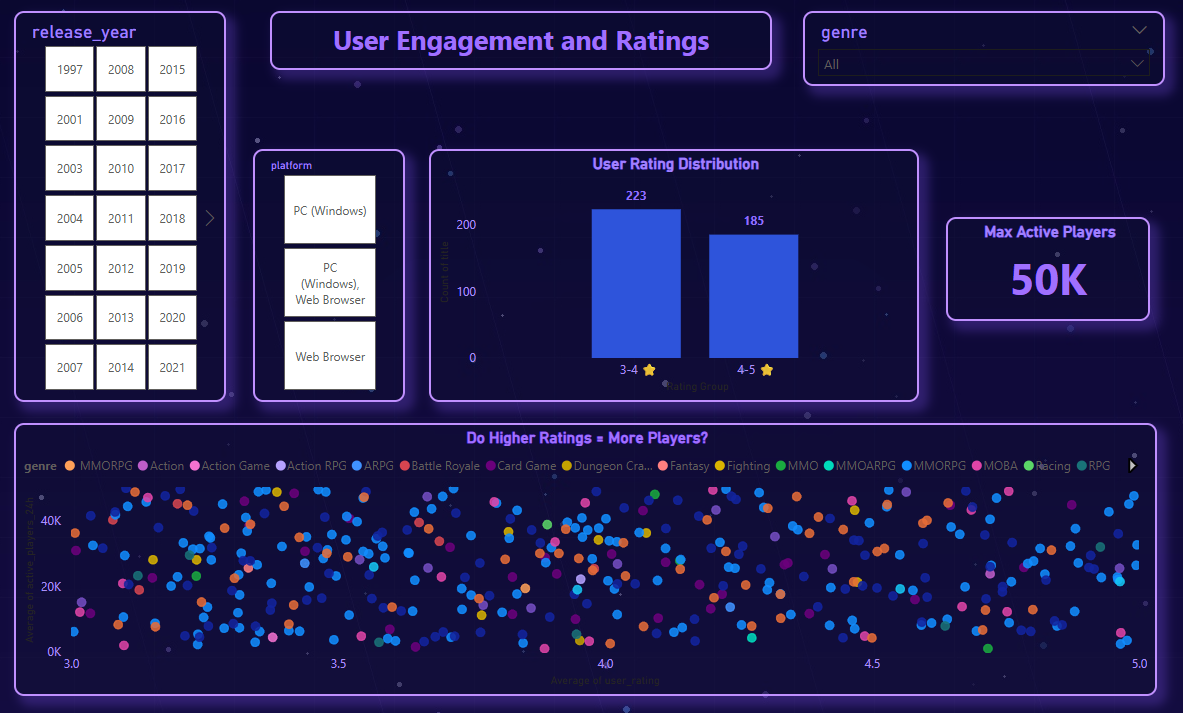

The page's visual inventory and layout, read from the dashboard file:
{"tool":"powerbi","page":{"name":"User Behaviour","canvas":[1280,720],"ordinal":2},"visuals":[{"type":"card","title":"Max Active Players","fields":{"Values":["Max(games_data.active_players_24h)"]},"box":[951.8,218.2,204.5,103.6],"z":1000},{"type":"slicer","fields":{"Values":["games_data.genre"]},"box":[809.1,11.8,361.8,75.5],"z":5000},{"type":"slicer","fields":{"Values":["games_data.platform"]},"box":[259.1,150,151.8,252.7],"z":6000},{"type":"slicer","fields":{"Values":["games_data.release_year"]},"box":[20,11.8,211.8,390.9],"z":7000},{"type":"textbox","box":[276.4,11.8,501.8,59.1],"z":8000},{"type":"clusteredColumnChart","title":"User Rating Distribution","fields":{"Y":["CountNonNull(games_data.title)"],"Category":["games_data.Rating Group"]},"box":[435.5,150,490,252.7],"z":8001},{"type":"scatterChart","title":"Do Higher Ratings = More Players?","fields":{"X":["Avg(games_data.user_rating)"],"Y":["Avg(games_data.active_players_24h)"],"Series":["games_data.genre"],"Category":["games_data.title"]},"box":[20,423.6,1142.7,273.6],"z":8002}]}

Visuals, with their boxes on the page's 1280x720 design canvas (x1, y1, x2, y2). These are canvas units, not pixel positions in the 1183x713 screenshot, which may show the page scaled, cropped or inside an application window:
"Max Active Players" card: left=952, top=218, right=1156, bottom=322
slicer - games_data.genre: left=809, top=12, right=1171, bottom=87
slicer - games_data.platform: left=259, top=150, right=411, bottom=403
slicer - games_data.release_year: left=20, top=12, right=232, bottom=403
textbox: left=276, top=12, right=778, bottom=71
"User Rating Distribution" clusteredColumnChart: left=436, top=150, right=926, bottom=403
"Do Higher Ratings = More Players?" scatterChart: left=20, top=424, right=1163, bottom=697
